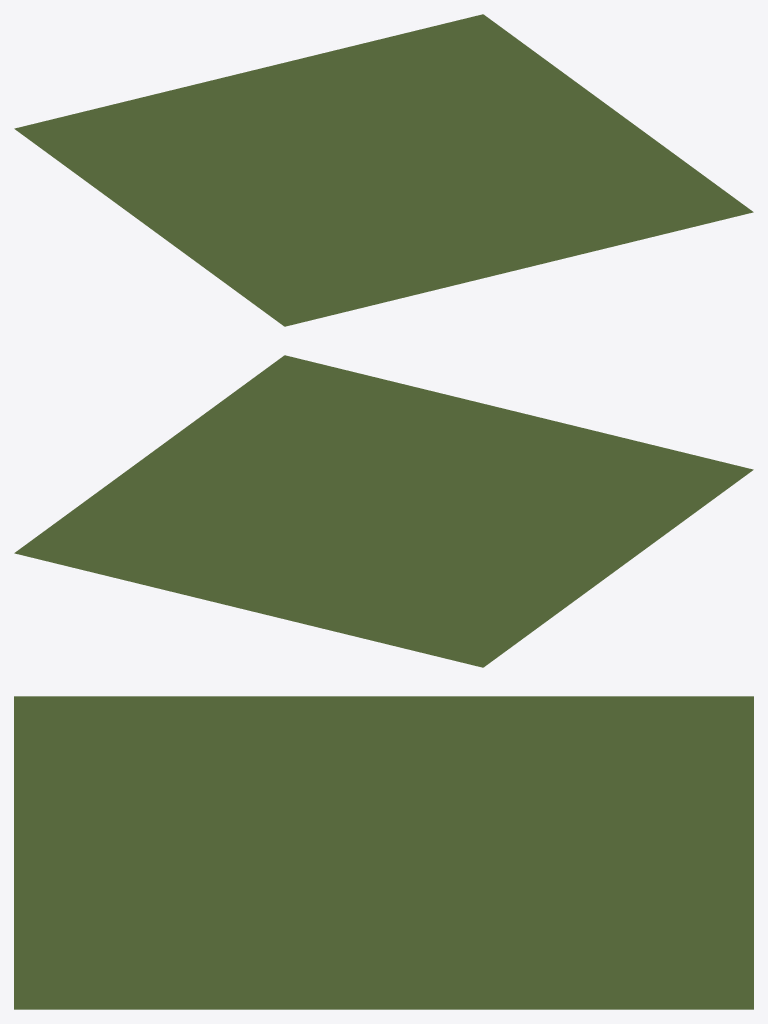
File: SM_Env_Tile_Grass_01.glb
The picture shows the model from 3 angles, top to bottom: view 1: azimuth 30°, elevation 25°; view 2: azimuth 150°, elevation 25°; view 3: azimuth 270°, elevation 25°; orthographic projection. The views are drawn at different scales.
Parts seen in each view (by area): view 1: SM_Env_Tile_Grass_01; view 2: SM_Env_Tile_Grass_01; view 3: SM_Env_Tile_Grass_01.
Boxes of the visible parts, box(x1,y1,x2,y2) form: SM_Env_Tile_Grass_01: box(14, 14, 753, 326); SM_Env_Tile_Grass_01: box(14, 355, 753, 667); SM_Env_Tile_Grass_01: box(14, 696, 753, 1009).
Bounding box in the file's own units: 3 × 2.26e-07 × 3.
Materials: 1 (1 with a texture image).
